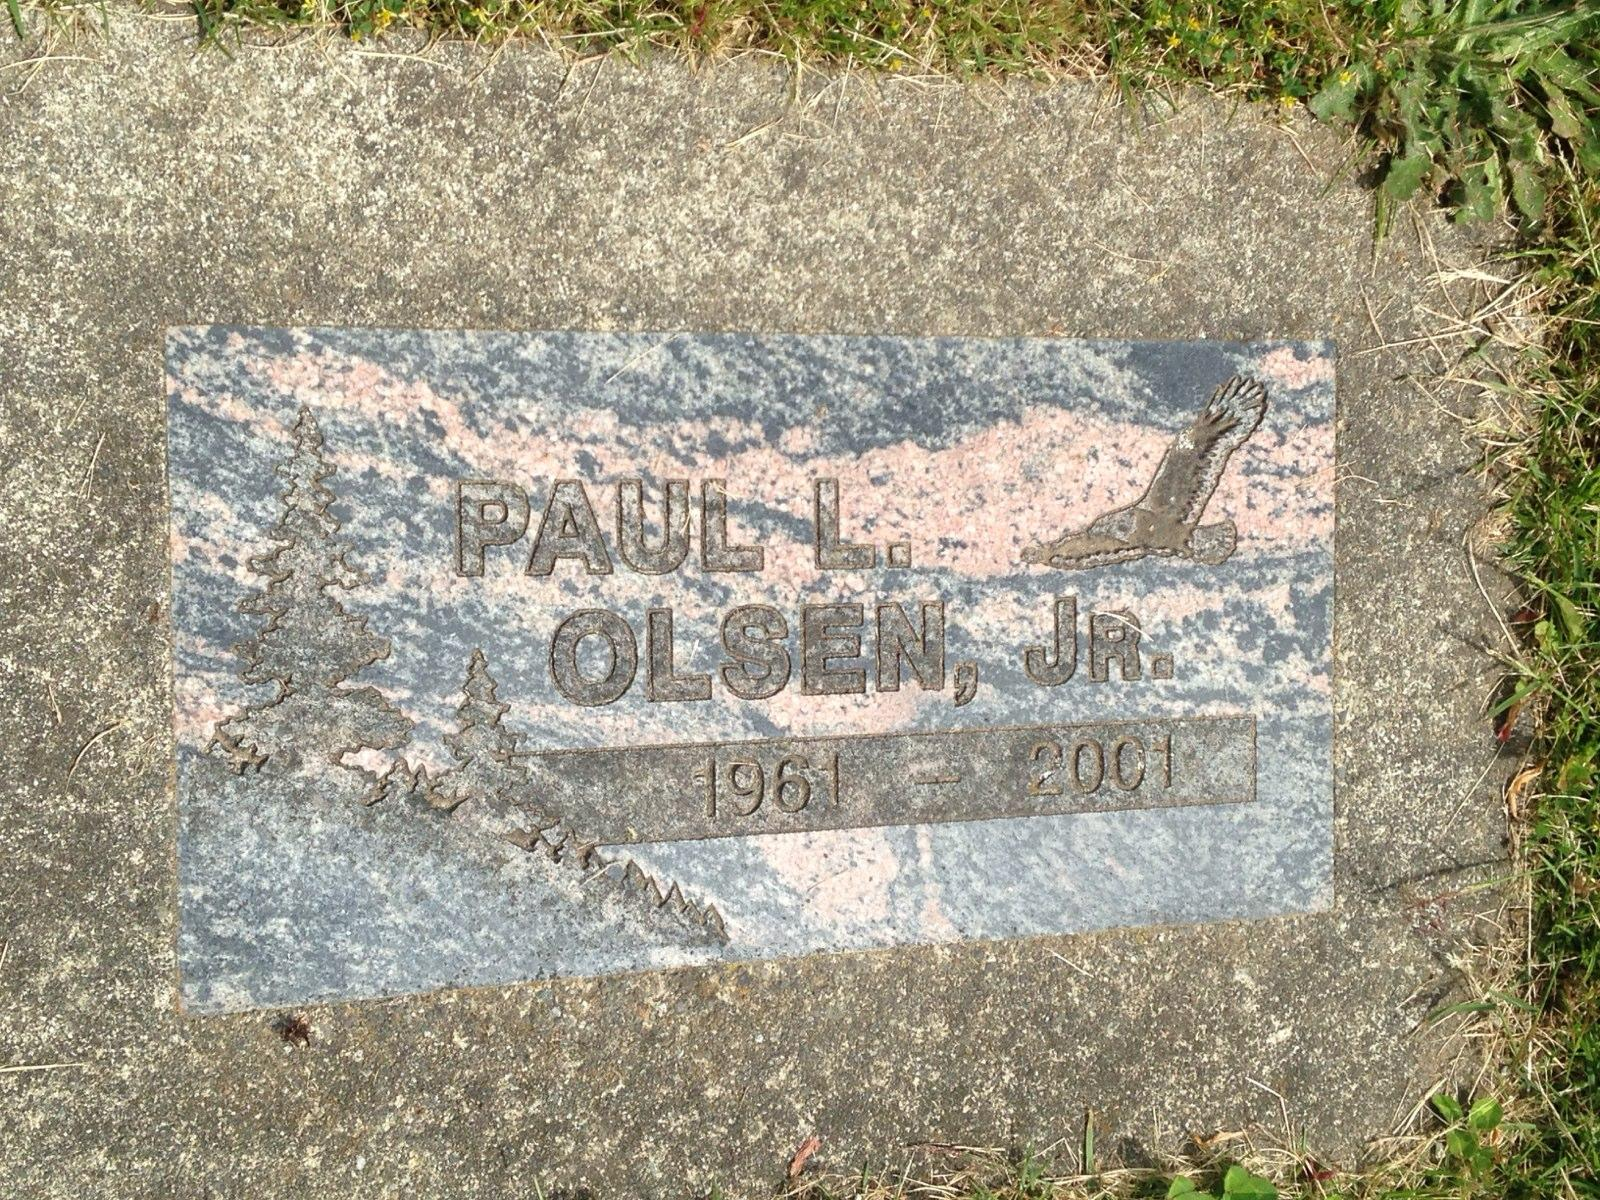flat: (0, 21, 1518, 1184)
